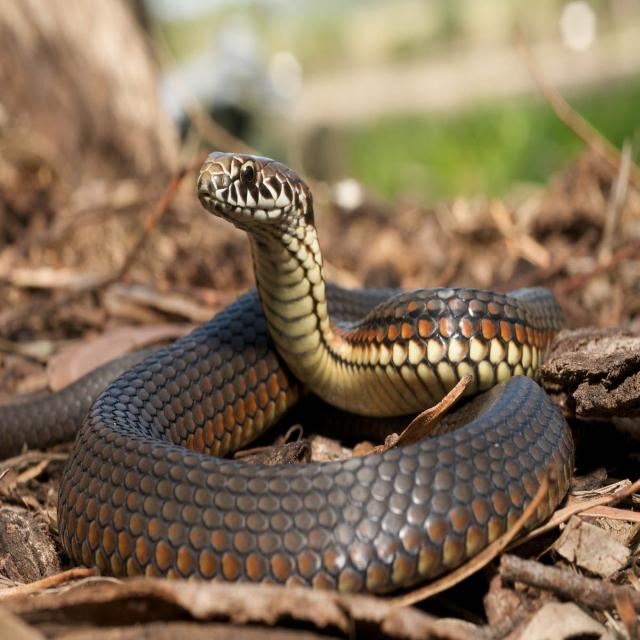Snake: (48, 146, 578, 588)
